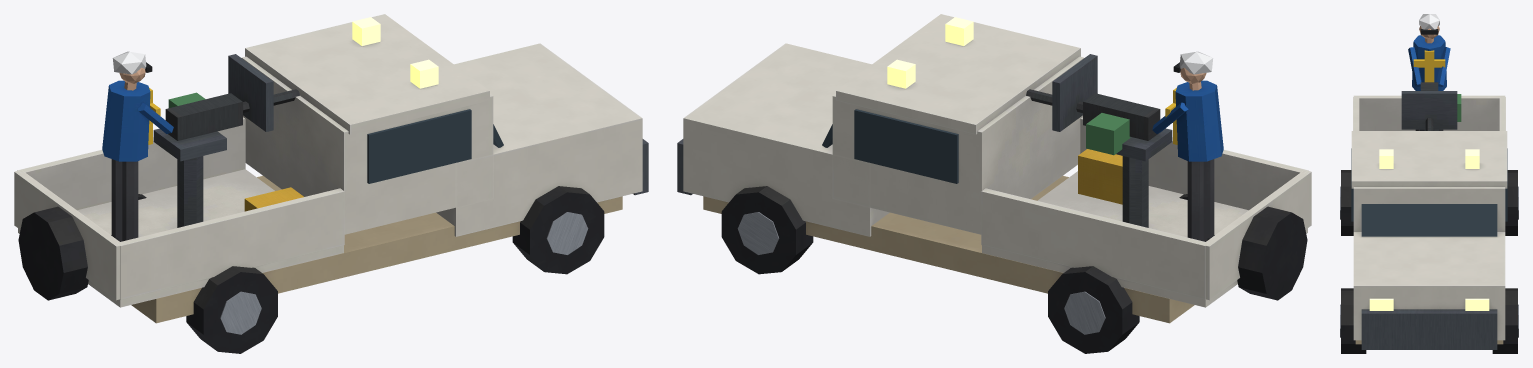
The model's file is flakbil_tex.glb.
The picture shows the model from 3 angles, left to right: view 1: azimuth 30°, elevation 25°; view 2: azimuth 150°, elevation 25°; view 3: azimuth 270°, elevation 25°; orthographic projection. The views are drawn at different scales.
Parts seen in each view (by area): view 1: Kaross, Torn, Pipa; view 2: Kaross, Torn, Pipa; view 3: Kaross, Pipa, Torn.
Boxes of the visible parts, left/top/right/bottom form: Kaross: left=14, top=14, right=648, bottom=353; Torn: left=102, top=51, right=226, bottom=241; Pipa: left=165, top=54, right=299, bottom=140; Kaross: left=677, top=14, right=1311, bottom=353; Torn: left=1116, top=51, right=1223, bottom=241; Pipa: left=1026, top=54, right=1160, bottom=155; Kaross: left=1340, top=95, right=1518, bottom=353; Pipa: left=1401, top=82, right=1461, bottom=130; Torn: left=1408, top=14, right=1450, bottom=130.
Size of the model in its own units: 6.03 by 2.78 by 2.24.
16 materials, 9 textured.
